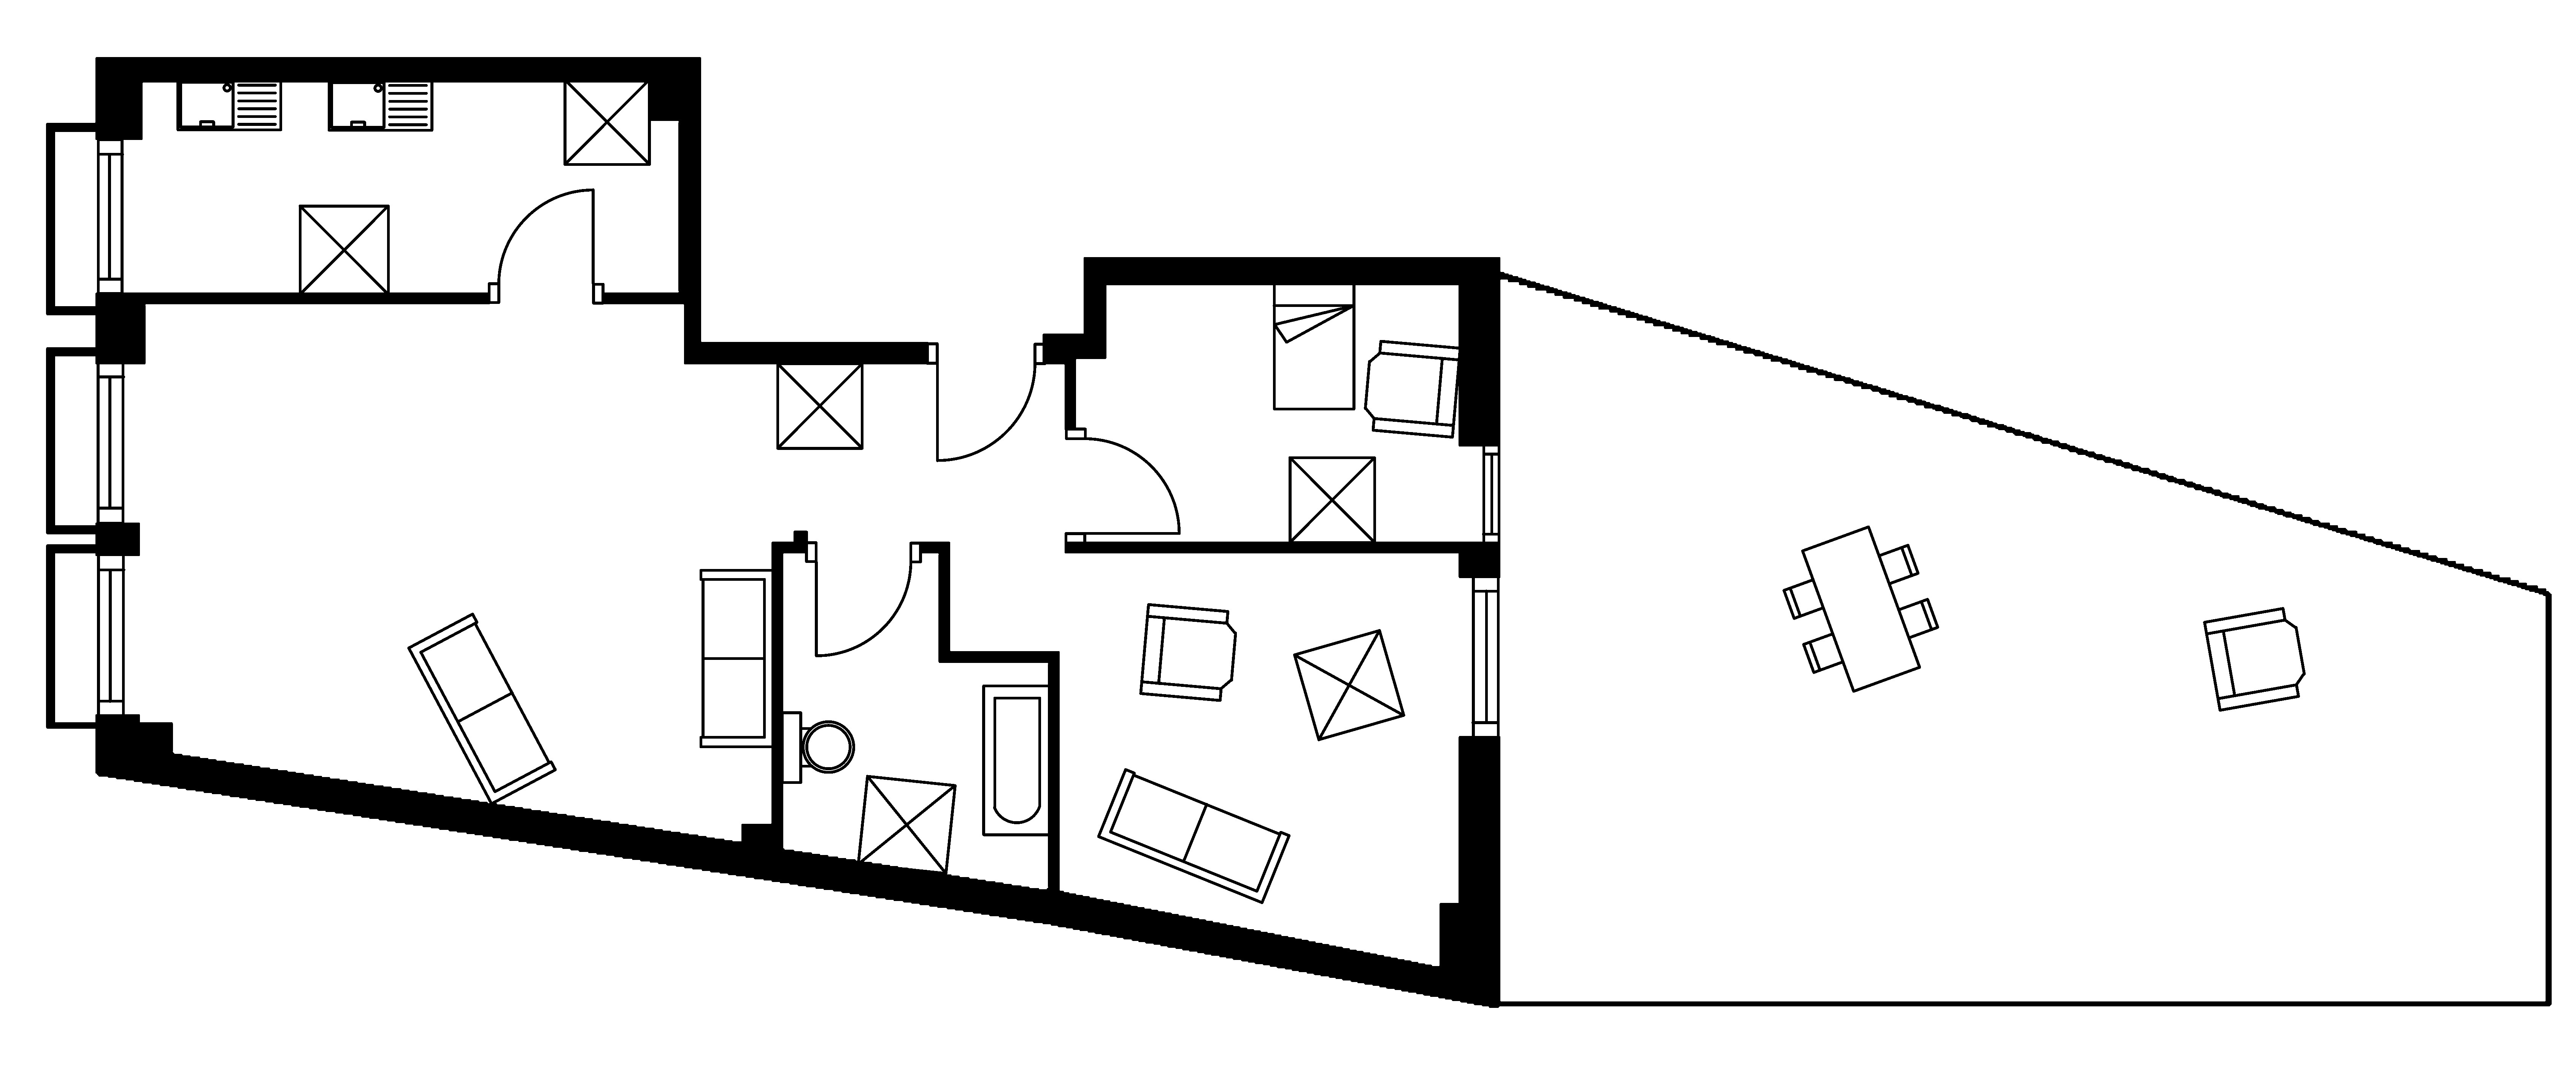armchair: (2201, 607, 2307, 712), (1138, 602, 1237, 702), (1364, 339, 1462, 439)
bed: (1272, 281, 1355, 411)
coffee_table: (1293, 628, 1405, 742), (856, 775, 956, 875), (297, 204, 389, 296), (562, 77, 651, 166), (775, 362, 864, 451), (1288, 456, 1377, 544)
dining_table: (1782, 525, 1940, 692)
large_sink: (780, 710, 854, 784)
large_sofa: (406, 612, 557, 806), (1096, 768, 1291, 904), (698, 569, 774, 748)
sink: (176, 77, 283, 132), (327, 77, 434, 132)
tub: (981, 684, 1051, 837)
